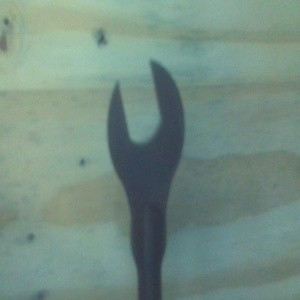spanner: (106, 58, 186, 300)
